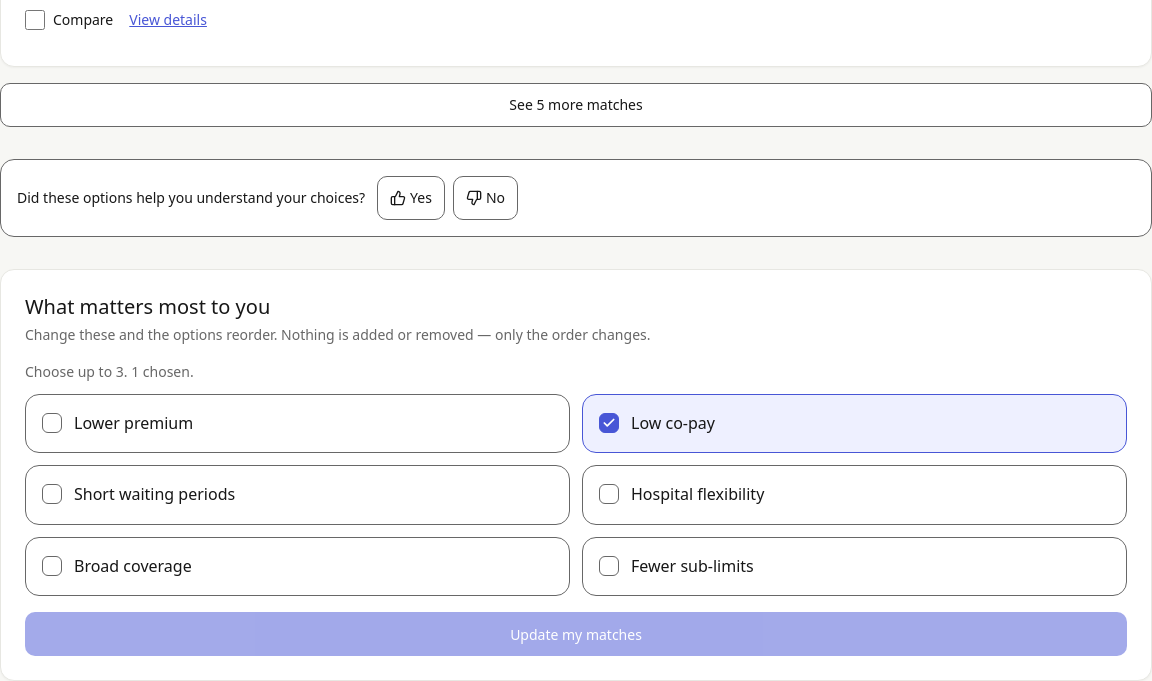
Scenario: ResultsClient › says so when a priority change does not move anything
(page scrolled)
Click the checkbox labelled "Broad coverage". click: (133, 566)
box: [25,537,570,596]
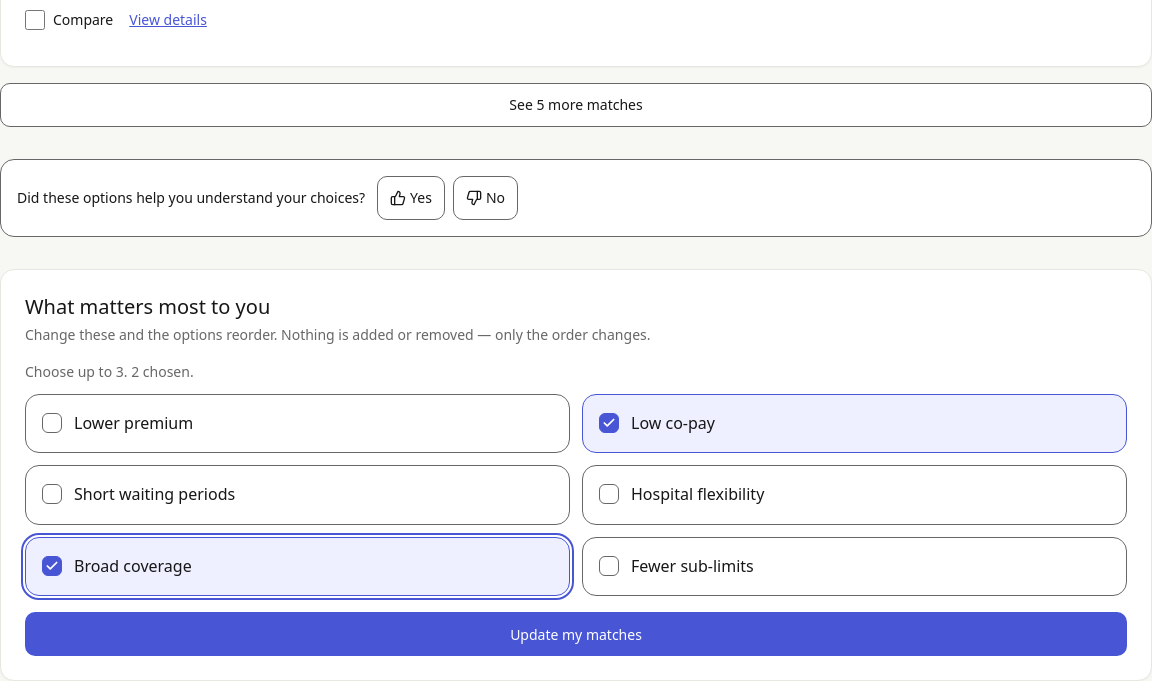
Click the button "Update my matches". click: (576, 634)
box: [25,612,1127,656]
(page scrolled)
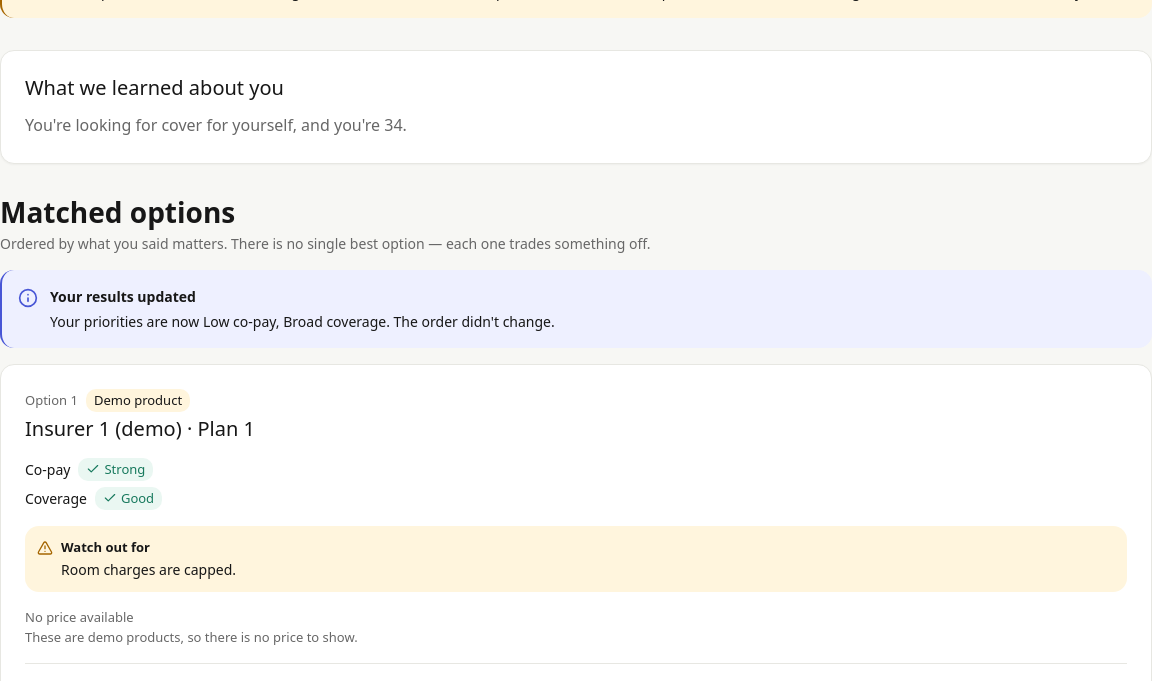
Expected: the text "The order didn't change" is shown, [50,312,555,331]
